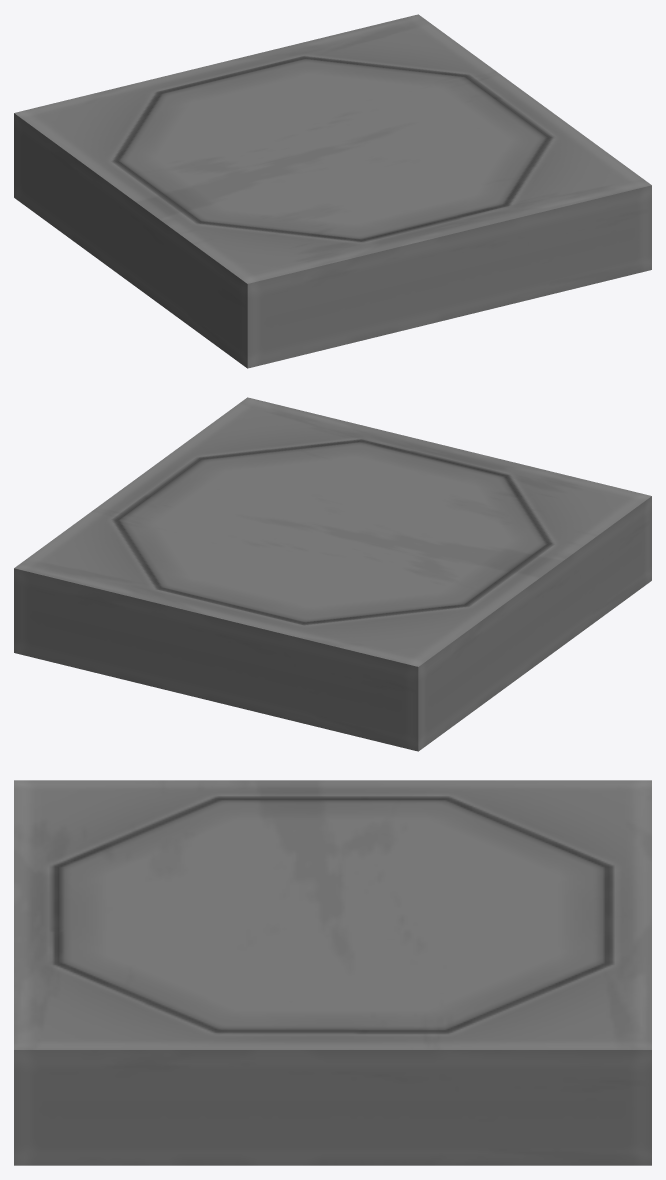
File: obj_interactive_button_lod1.fbx
3 renders of one model, top to bottom at view 1: azimuth 30°, elevation 25°; view 2: azimuth 150°, elevation 25°; view 3: azimuth 270°, elevation 25°, orthographic. The views are drawn at different scales.
Parts seen in each view (by area): view 1: obj_interactive_button_lod3; view 2: obj_interactive_button_lod3; view 3: obj_interactive_button_lod3.
Part boxes in pixels (x1,y1,x2,y2): obj_interactive_button_lod3: (14,14,651,368); obj_interactive_button_lod3: (14,397,651,751); obj_interactive_button_lod3: (14,780,651,1165).
Size of the model in its own units: 1 by 0.2434 by 1.
Materials: 1 (1 with a texture image).
